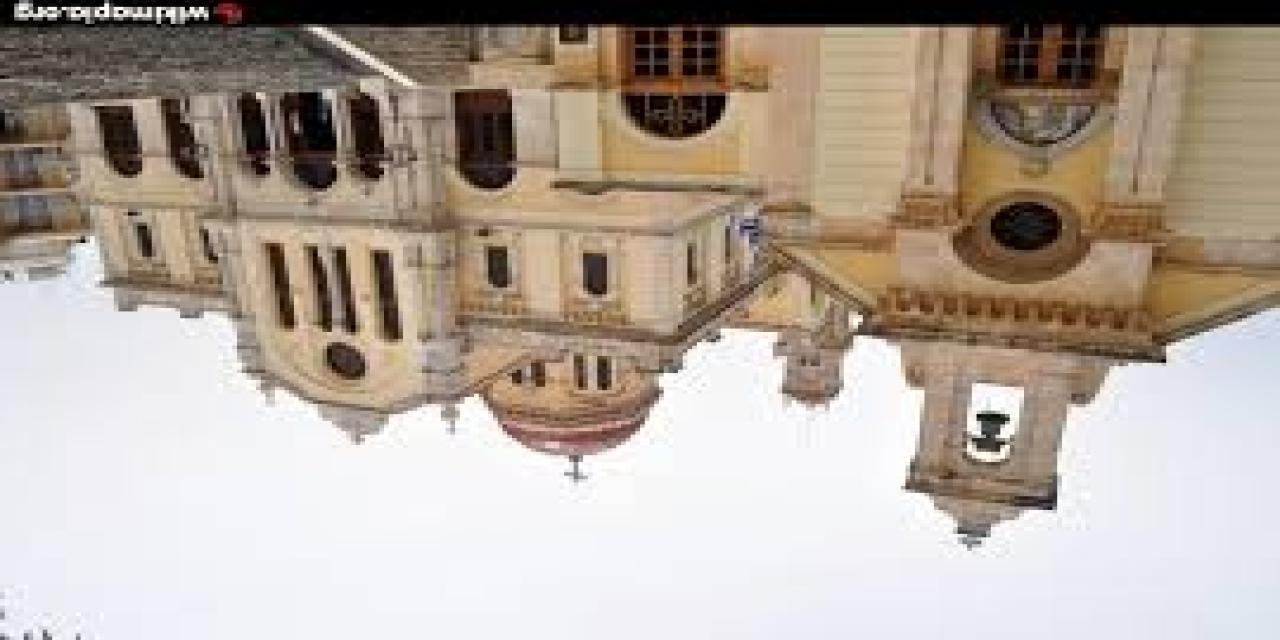Agios Minas: (86, 25, 1270, 580)
